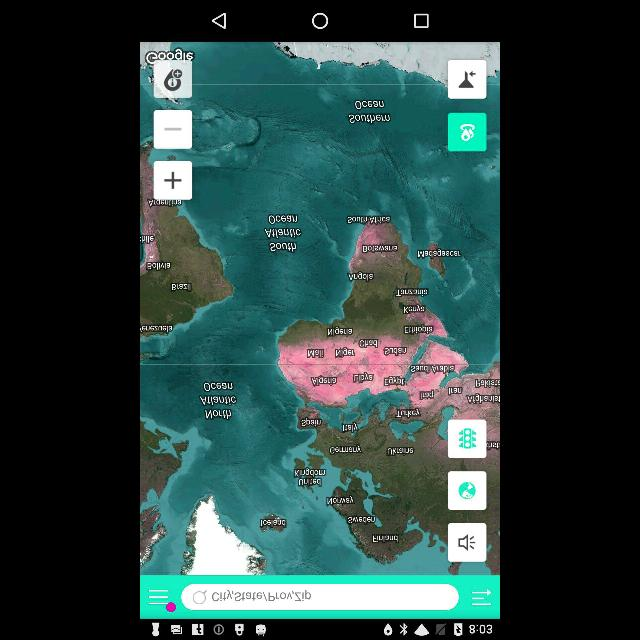icon: (471, 588, 491, 606), (148, 590, 168, 604), (312, 13, 328, 29), (212, 13, 226, 29), (414, 14, 428, 28), (194, 588, 206, 602)
input: (182, 584, 458, 610)
map: (140, 43, 500, 575)
panel: (140, 1, 500, 42)
text: (212, 590, 312, 602)
toolbar: (140, 576, 500, 620)
uppertaskbar: (140, 620, 500, 640)
